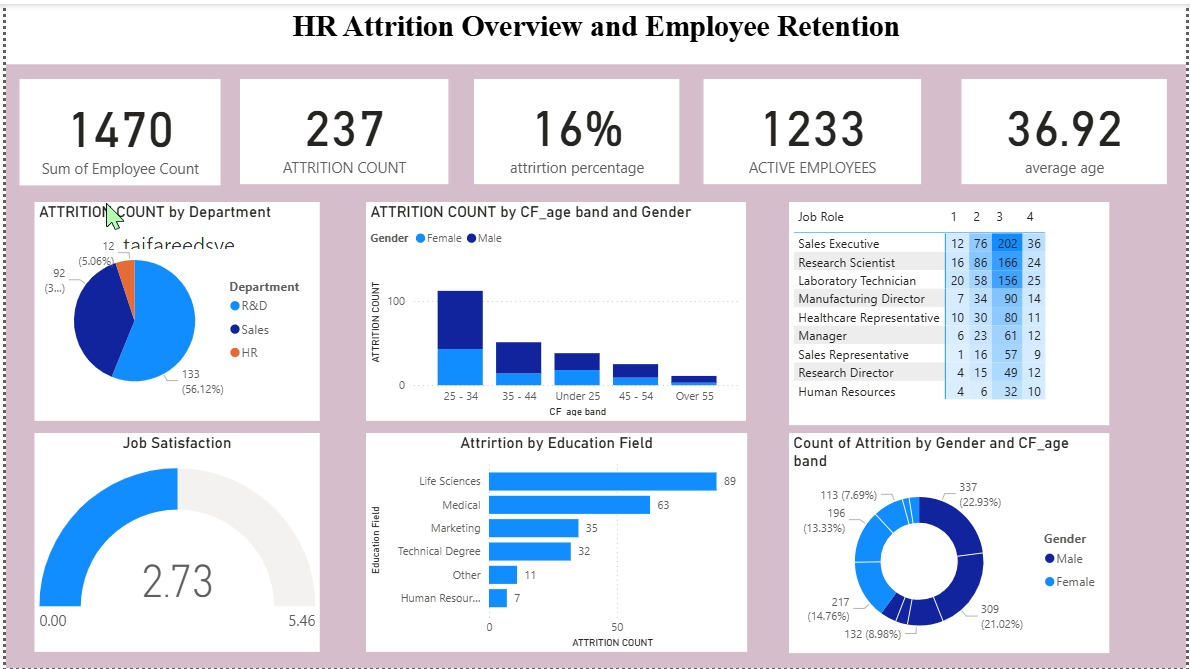

The page's visual inventory and layout, read from the dashboard file:
{"tool":"powerbi","page":{"name":"Page 1","canvas":[1280,720],"ordinal":0},"visuals":[{"type":"card","fields":{"Values":["Table1.Employee Count"]},"box":[14.6,81.3,218,115.5],"z":0},{"type":"card","fields":{"Values":["MEASURES (2).ATTRITION COUNT"]},"box":[253.7,81.3,226.1,113.9],"z":1000},{"type":"card","fields":{"Values":["MEASURES (2).attrirtion percentage"]},"box":[507.5,81.3,222.8,113.9],"z":2000},{"type":"card","fields":{"Values":["MEASURES (2).ACTIVE EMPLOYEES"]},"box":[756.3,81.3,235.8,113.9],"z":3000},{"type":"card","fields":{"Values":["MEASURES (2).average age"]},"box":[1036.1,81.3,222.8,113.9],"z":4000},{"type":"pieChart","fields":{"Y":["MEASURES (2).ATTRITION COUNT"],"Category":["HR data.Department"]},"box":[30.6,214.4,309.3,237.3],"z":5000},{"type":"columnChart","fields":{"Y":["MEASURES (2).ATTRITION COUNT"],"Category":["HR data.CF_age band"],"Series":["HR data.Gender"]},"box":[390.4,214.4,411.9,237.3],"z":6000},{"type":"actionButton","box":[0,0,100,40],"z":7000},{"type":"pivotTable","fields":{"Rows":["HR data.Job Role"],"Columns":["HR data.Work Life Balance"],"Values":["HR data.Employee Count"]},"box":[849.8,214.4,347.6,241.9],"z":8000},{"type":"gauge","title":"Job Satisfaction","fields":{"Y":["HR data.Job Satisfaction"]},"box":[30.6,465.5,309.3,237.3],"z":9000},{"type":"barChart","title":"Attrirtion by Education Field","fields":{"Category":["HR data.Education Field"],"Y":["MEASURES (2).ATTRITION COUNT"]},"box":[390.4,465.5,413.4,237.3],"z":10000},{"type":"donutChart","fields":{"Category":["HR data.Gender","HR data.CF_age band"],"Y":["HR data.Attrition"],"Series":["HR data.CF_age band"]},"box":[849.8,465.5,347.6,238.9],"z":11000},{"type":"textbox","box":[0,0,1280.1,65.1],"z":11001}]}

Visuals, with their boxes in screenshot pixels (x1, y1, x2, y2), scaled from the page's 1280x720 canvas onto the 1190x669 screenshot:
card - Table1.Employee Count: (x1=14, y1=76, x2=216, y2=183)
card - MEASURES (2).ATTRITION COUNT: (x1=236, y1=76, x2=446, y2=181)
card - MEASURES (2).attrirtion percentage: (x1=472, y1=76, x2=679, y2=181)
card - MEASURES (2).ACTIVE EMPLOYEES: (x1=703, y1=76, x2=922, y2=181)
card - MEASURES (2).average age: (x1=963, y1=76, x2=1170, y2=181)
pieChart - MEASURES (2).ATTRITION COUNT x HR data.Department: (x1=28, y1=199, x2=316, y2=420)
columnChart - MEASURES (2).ATTRITION COUNT x HR data.CF_age band: (x1=363, y1=199, x2=746, y2=420)
actionButton: (x1=0, y1=0, x2=93, y2=37)
pivotTable - HR data.Job Role x HR data.Work Life Balance: (x1=790, y1=199, x2=1113, y2=424)
"Job Satisfaction" gauge: (x1=28, y1=433, x2=316, y2=653)
"Attrirtion by Education Field" barChart: (x1=363, y1=433, x2=747, y2=653)
donutChart - HR data.Gender x HR data.CF_age band: (x1=790, y1=433, x2=1113, y2=655)
textbox: (x1=0, y1=0, x2=1189, y2=60)
